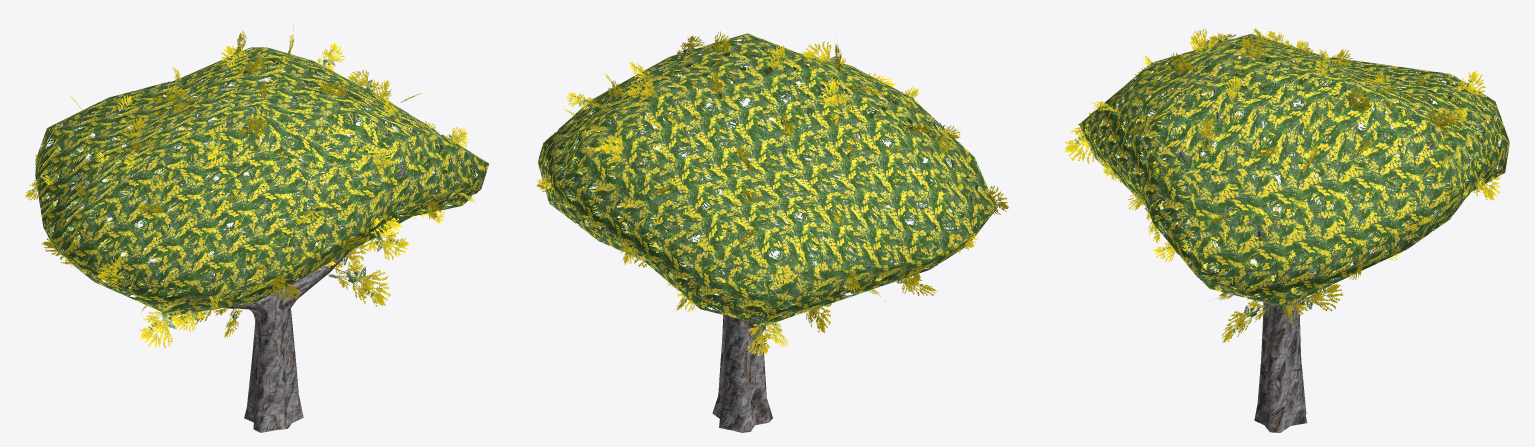
The model's file is Acacia.glb.
3 renders of one model, left to right at view 1: azimuth 30°, elevation 25°; view 2: azimuth 150°, elevation 25°; view 3: azimuth 270°, elevation 25°, orthographic. The views are drawn at different scales.
Parts seen in each view (by area): view 1: Acacia, Acacia_Stump; view 2: Acacia, Acacia_Stump; view 3: Acacia, Acacia_Stump.
Boxes of the visible parts, bbox=[...] form: Acacia: bbox=[25, 23, 488, 396]; Acacia_Stump: bbox=[244, 384, 303, 432]; Acacia: bbox=[536, 31, 1008, 396]; Acacia_Stump: bbox=[712, 381, 772, 432]; Acacia: bbox=[1064, 28, 1509, 395]; Acacia_Stump: bbox=[1254, 382, 1307, 432].
Size of the model in its own units: 10.15 by 8.48 by 9.55.
4 materials, 4 textured.
